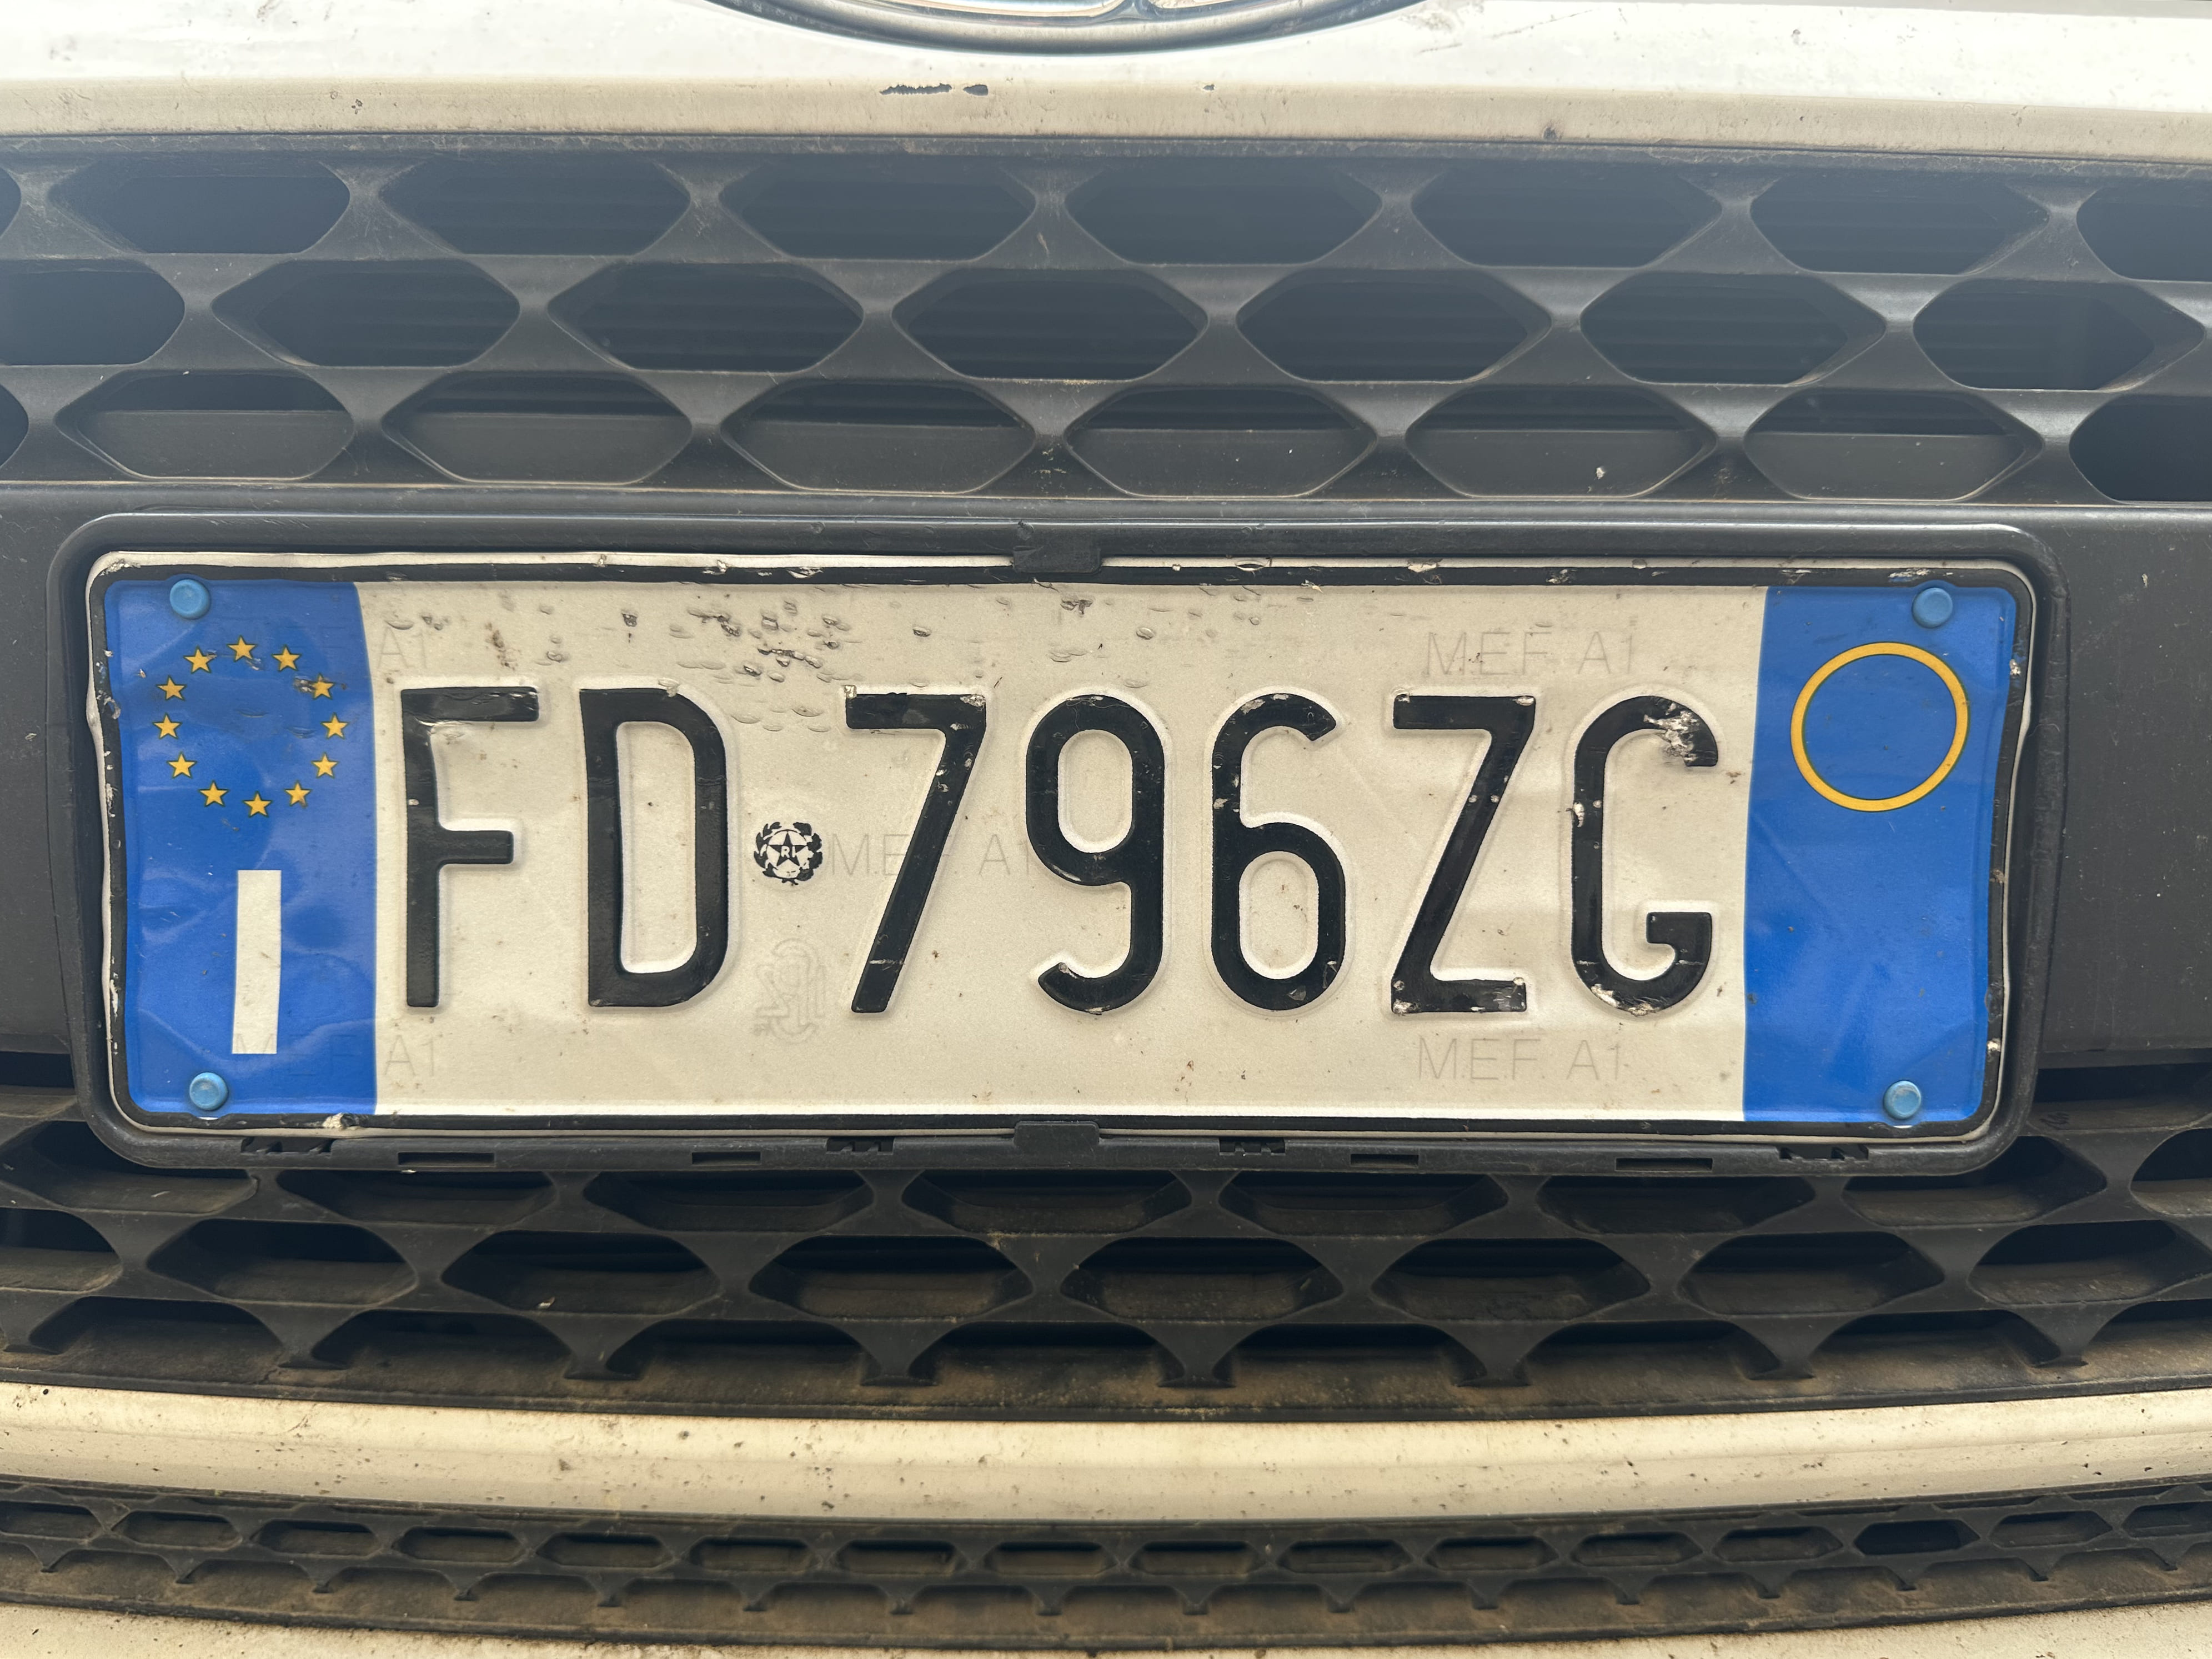license-plate: (84, 548, 2037, 1138)
